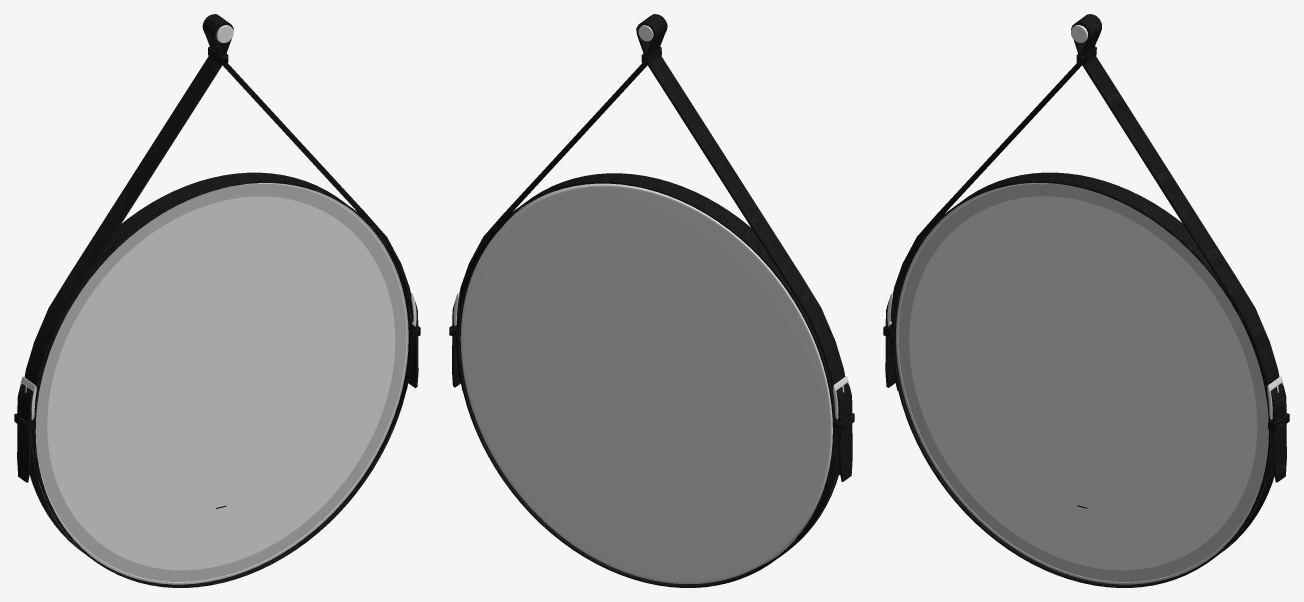
The model's file is kap3.glb.
3 renders of one model, left to right at view 1: azimuth 30°, elevation 25°; view 2: azimuth 150°, elevation 25°; view 3: azimuth 330°, elevation 25°, orthographic.
Visible parts, largest first — view 1: Shape2174, Shape2177, Cylinder204205, Cylinder204201, Shape2175, Null; view 2: Shape2175, Cylinder204205, Cylinder204201, Null; view 3: Shape2174, Shape2177, Cylinder204205, Cylinder204201, Shape2175, Null.
Part boxes in pixels (x1,y1,x2,y2): Shape2174: (47,196,395,570); Shape2177: (36,183,408,584); Cylinder204205: (17,14,418,482); Cylinder204201: (30,172,412,587); Shape2175: (35,183,407,583); Null: (14,47,420,480); Shape2175: (460,183,832,583); Cylinder204205: (452,14,852,481); Cylinder204201: (456,173,838,587); Null: (449,47,854,480); Shape2174: (909,196,1257,570); Shape2177: (896,183,1268,584); Cylinder204205: (885,14,1286,482); Cylinder204201: (892,172,1274,587); Shape2175: (897,183,1268,583); Null: (883,46,1289,480).
Size of the model in its own units: 0.6257 by 0.8517 by 0.0401.
Materials: 5 (2 with a texture image).
